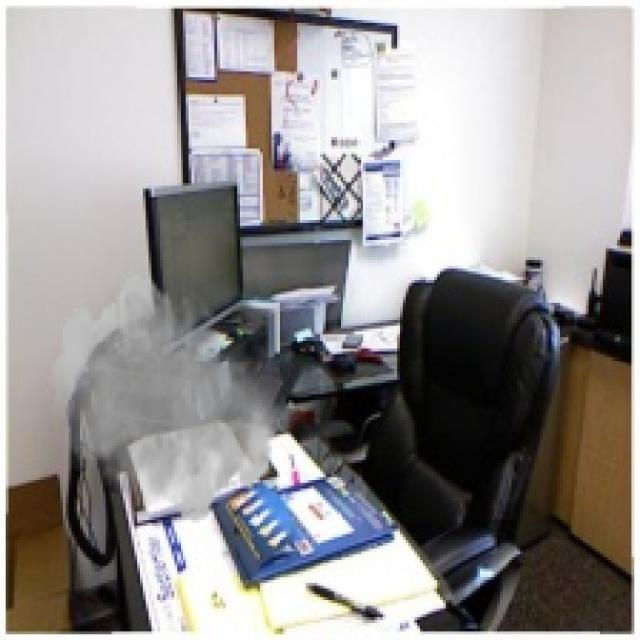smoke: (46, 268, 286, 526)
